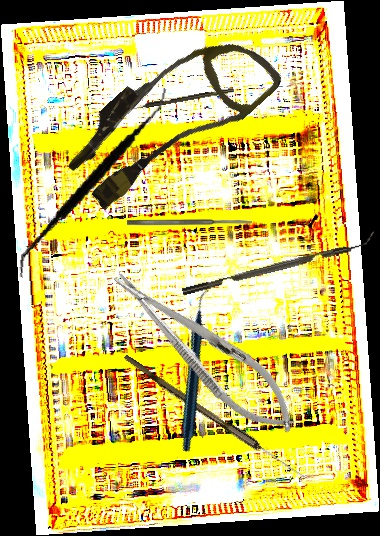Cannula: (53, 5, 286, 229)
Chopper: (179, 230, 378, 296)
Handpiece: (114, 286, 280, 455)
Hook Surgical: (130, 87, 235, 111)
Needle Holder: (99, 253, 311, 449)
Spatula Surgical: (17, 70, 170, 296), (127, 219, 252, 226)
Surgical Spoon: (120, 354, 310, 482)
